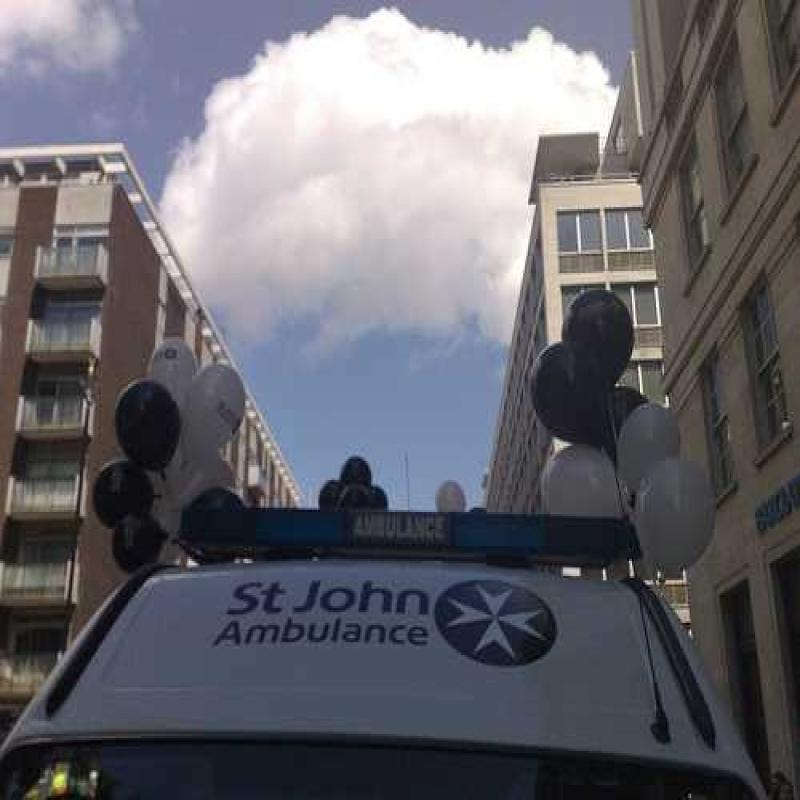AmbulanceSiren: (186, 422, 657, 591)
